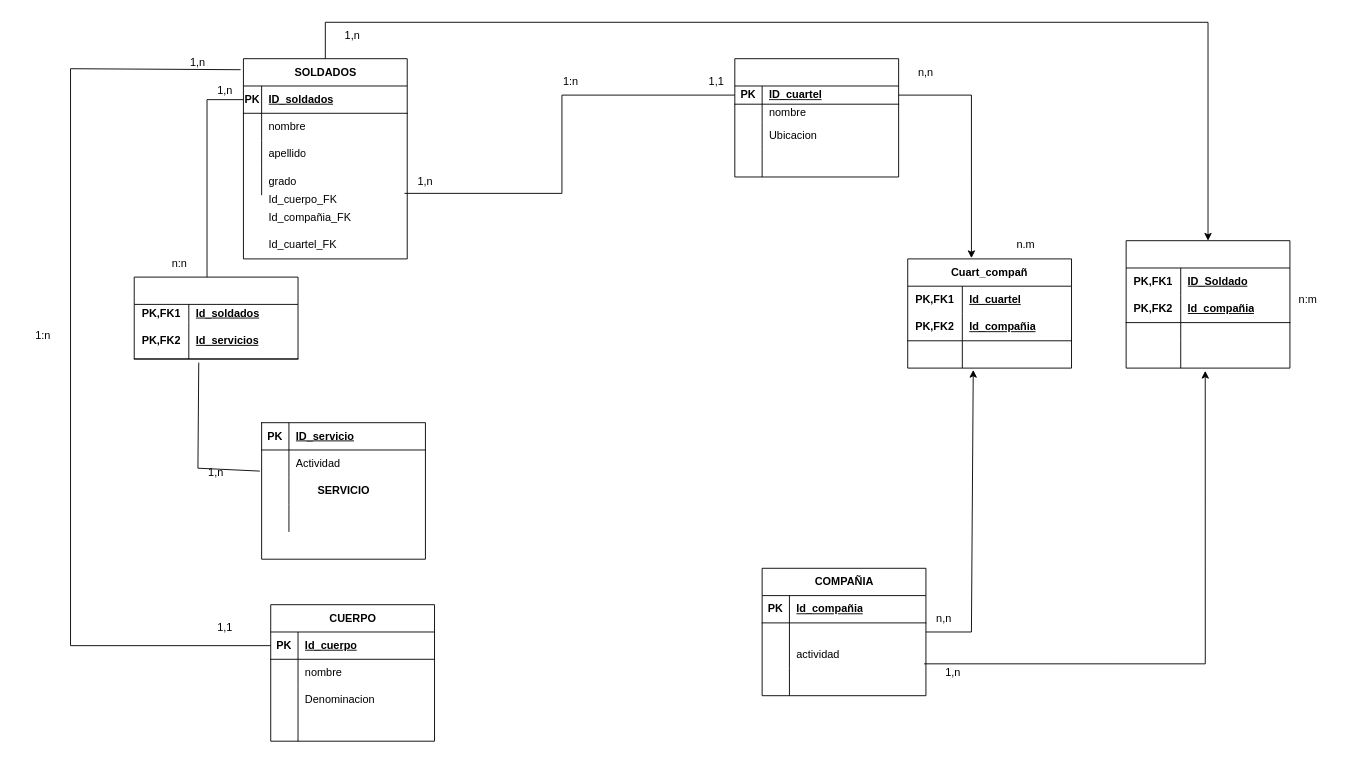
Image size: 1350x757. Some labels were removed from this diagram. Each missing label, with the box of its shape:
CUARTELES: (734, 58, 899, 177)
SOLD_SERV: (133, 276, 298, 359)
solda_compa: (1125, 240, 1290, 368)
